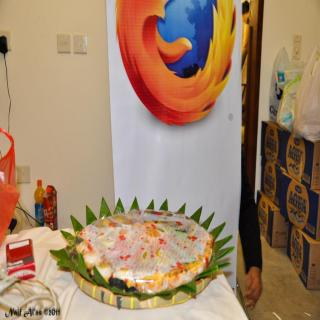Pizza: (52, 209, 220, 316)
